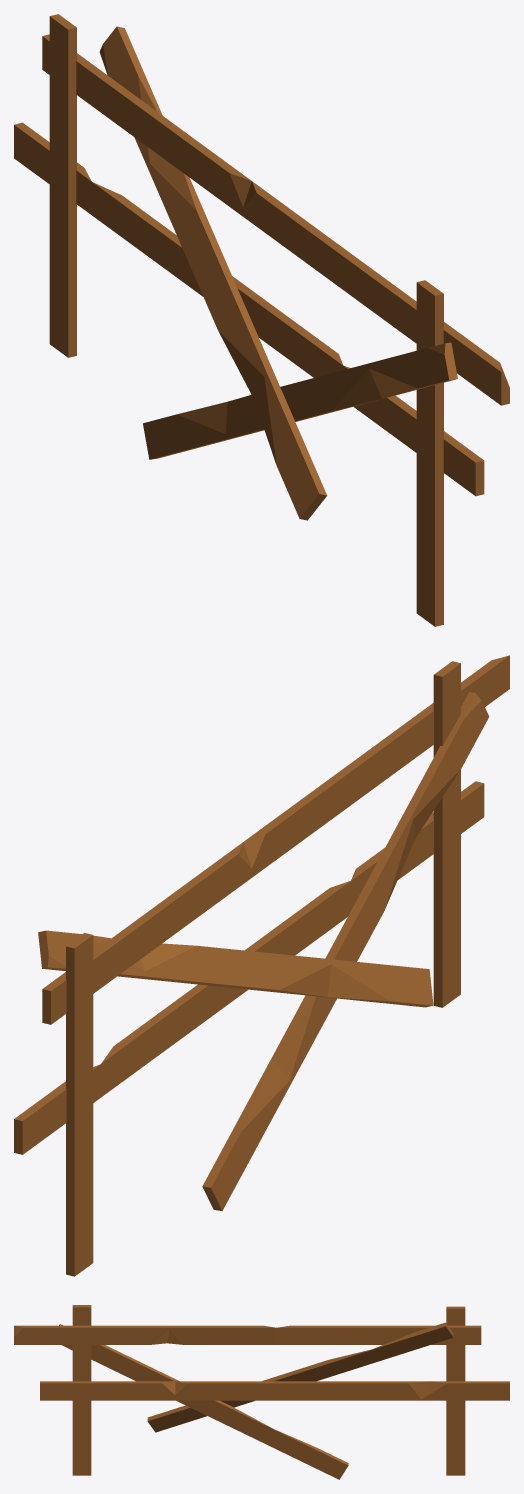
Rendered from fence2.fbx.
3 renders of one model, top to bottom at view 1: azimuth 30°, elevation 25°; view 2: azimuth 150°, elevation 25°; view 3: azimuth 270°, elevation 25°, orthographic. The views are drawn at different scales.
Parts seen in each view (by area): view 1: Cube.012; view 2: Cube.012; view 3: Cube.012.
Part boxes in pixels (bbox=[...]): Cube.012: bbox=[14, 14, 509, 626]; Cube.012: bbox=[14, 655, 509, 1276]; Cube.012: bbox=[14, 1305, 509, 1479].
Size of the model in its own units: 68.6 by 209 by 525.
